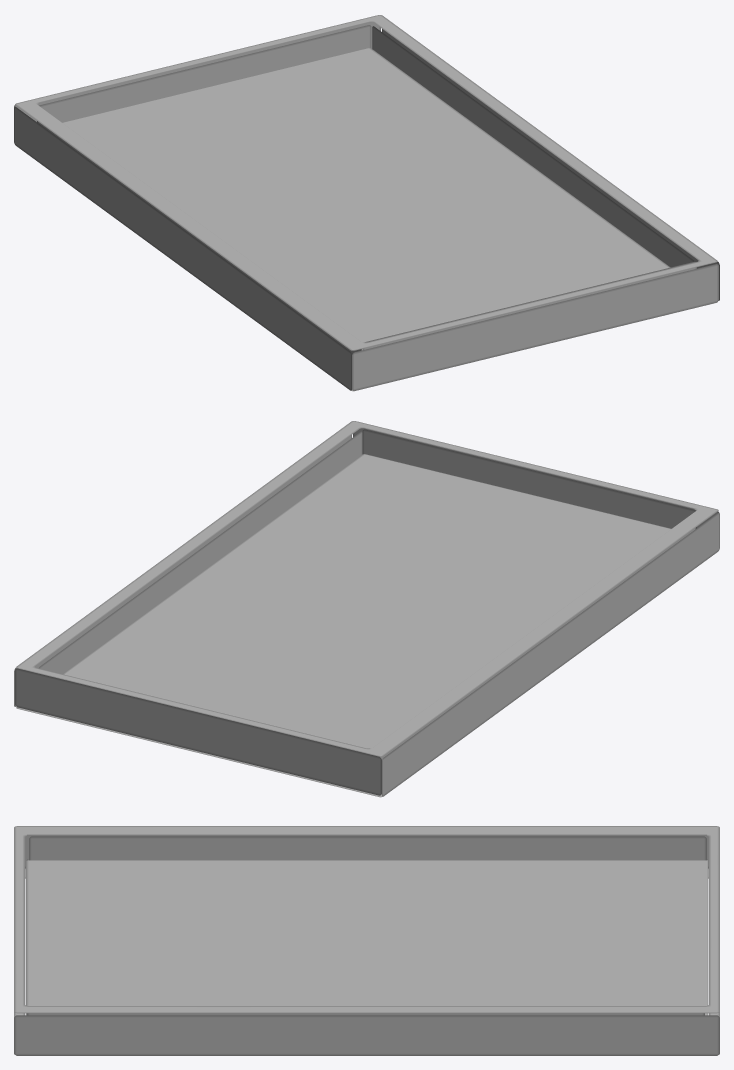
File: pz_window_wooden_broken.obj
3 renders of one model, top to bottom at view 1: azimuth 30°, elevation 25°; view 2: azimuth 150°, elevation 25°; view 3: azimuth 270°, elevation 25°, orthographic. The views are drawn at different scales.
Parts seen in each view (by area): view 1: pz_window_wooden_broken; view 2: pz_window_wooden_broken; view 3: pz_window_wooden_broken.
Boxes of the visible parts, x1,y1,x2,y2 form: pz_window_wooden_broken: (14,15,719,391); pz_window_wooden_broken: (14,421,719,797); pz_window_wooden_broken: (14,826,719,1055).
Size of the model in its own units: 0.6094 by 0.064 by 0.9696.
1 material, 1 textured.
